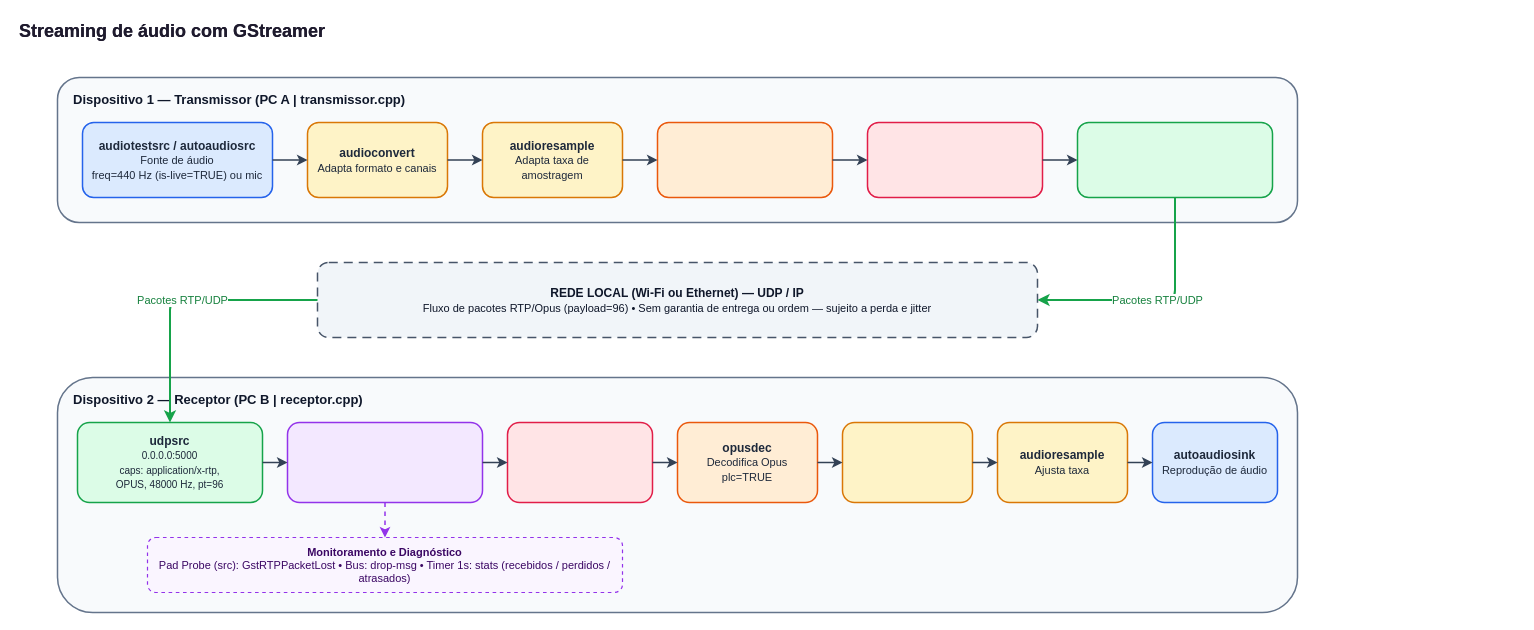
The diagram is 1534 pixels wide and 630 high, and some of its shapes have lost their labels. The centre of each missing label's shape, as x and y in pixels:
audioconvert Adapta formato: point 907,462
opusenc Codificador Opus bitrate=64000 (20 ms/pacote): point 744,159
rtpjitterbuffer latency=50 ou 200 ms do-lost=TRUE post-drop-messages=TRUE: point 384,462
rtpopusdepay Desencapsula RTP: point 579,462
rtpopuspay Encapsulamento RTP pt=96 (seqnum, timestamp): point 954,159
udpsink Transmissão UDP host=<IP_PC_B> | port=5000: point 1174,159
